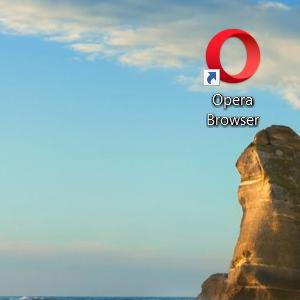opera: (203, 28, 261, 86)
